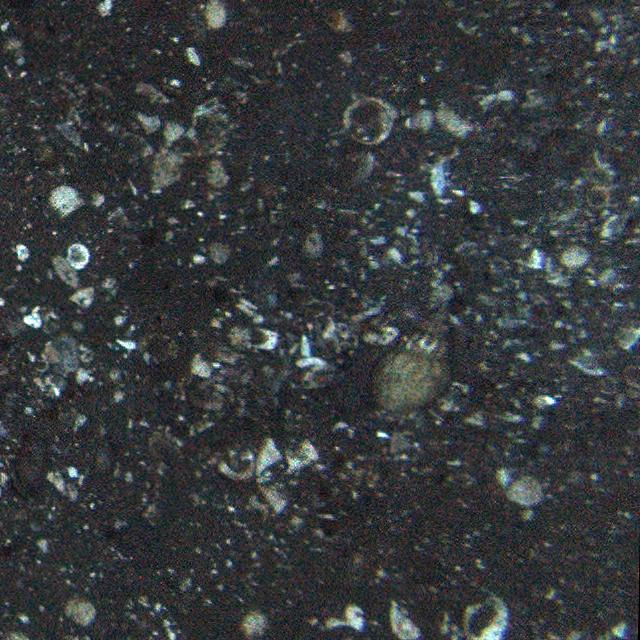whelk: (369, 305, 459, 416)
